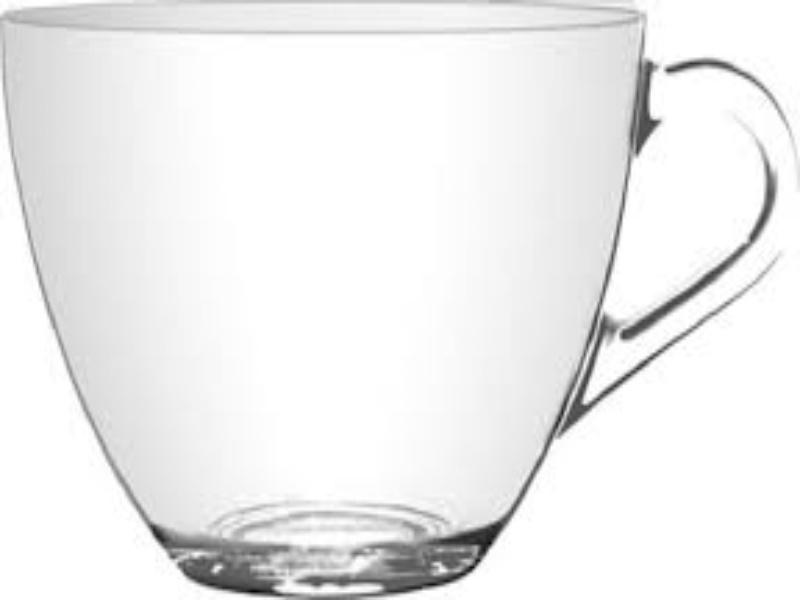cup: (3, 2, 800, 595)
